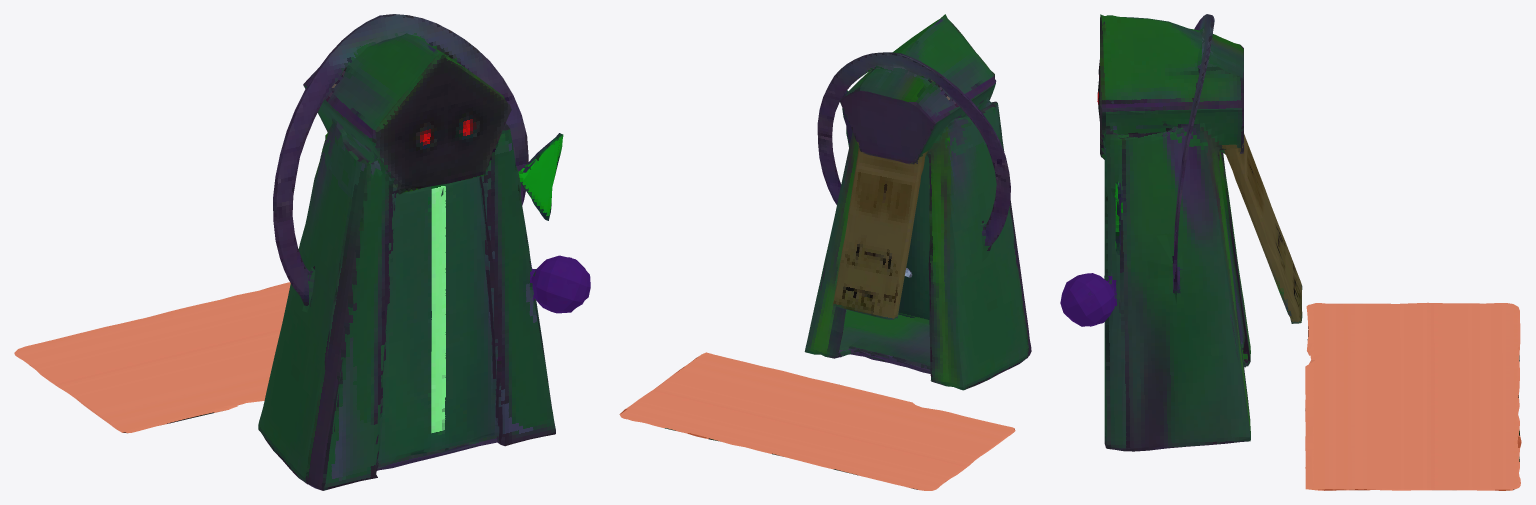
File: SM_Ouroboros_QuadRetro.glb
The picture shows the model from 3 angles, left to right: view 1: azimuth 30°, elevation 25°; view 2: azimuth 150°, elevation 25°; view 3: azimuth 270°, elevation 25°; orthographic projection. The views are drawn at different scales.
Parts seen in each view (by area): view 1: Ouroboros_QuadRemesh; view 2: Ouroboros_QuadRemesh; view 3: Ouroboros_QuadRemesh.
Boxes of the visible parts, x1=… form: Ouroboros_QuadRemesh: x1=14, y1=14, x2=590, y2=490; Ouroboros_QuadRemesh: x1=619, y1=14, x2=1031, y2=490; Ouroboros_QuadRemesh: x1=1060, y1=14, x2=1521, y2=490.
Bounding box in the file's own units: 2.1 × 2 × 2.18.
Materials: 1 (1 with a texture image).
